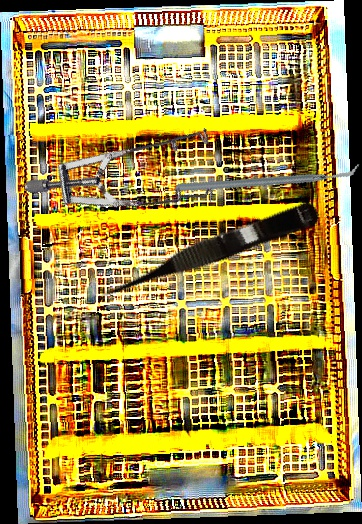Chopper: (174, 109, 362, 246)
Micro Scissor: (92, 194, 322, 307)
Speculum: (23, 68, 239, 266)
